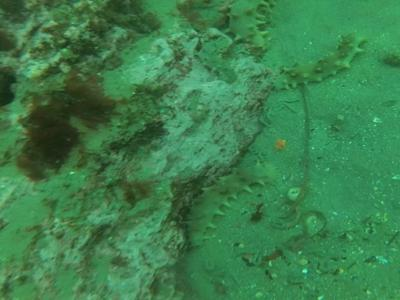holothurian: (186, 162, 272, 250), (282, 31, 367, 84), (222, 4, 277, 55)
